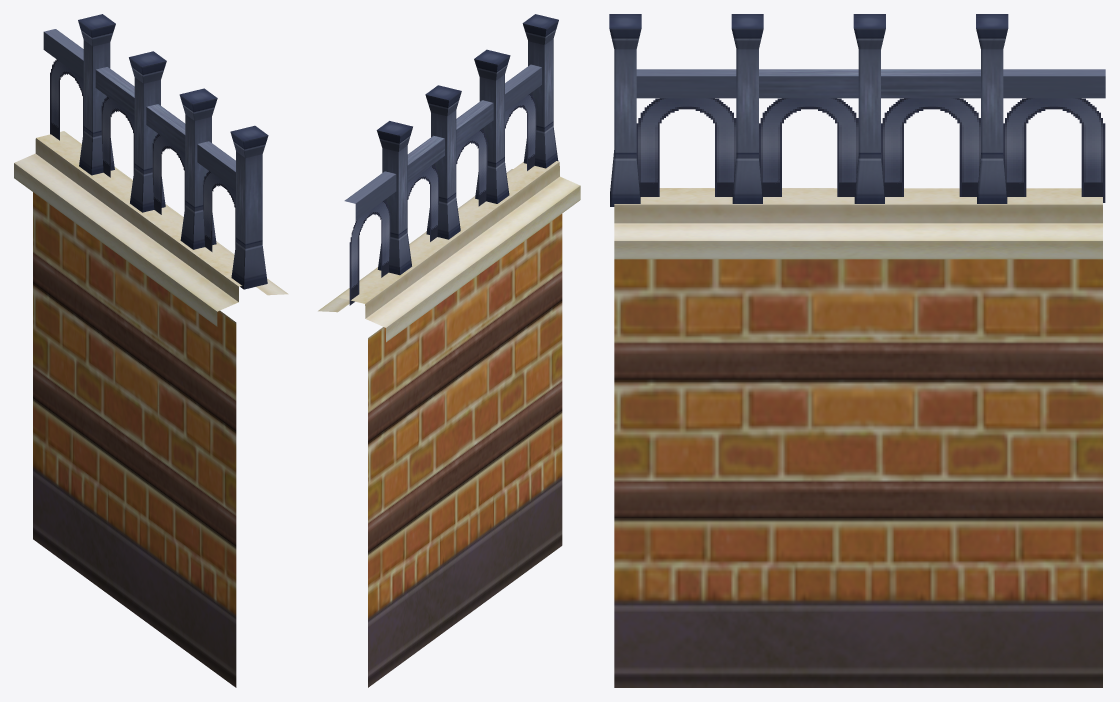
The model's file is a_SEwall01.glb.
3 views of the same model, side by side, from view 1: azimuth 30°, elevation 25°; view 2: azimuth 150°, elevation 25°; view 3: azimuth 270°, elevation 25° (orthographic). The views are drawn at different scales.
Visible parts, largest first — view 1: a_SEwall01; view 2: a_SEwall01; view 3: a_SEwall01.
Boxes of the visible parts, left/top/right/bottom form: a_SEwall01: left=14, top=14, right=288, bottom=687; a_SEwall01: left=318, top=14, right=580, bottom=687; a_SEwall01: left=609, top=14, right=1105, bottom=687.
Bounding box in the file's own units: 0.4068 × 2.97 × 2.03.
3 materials, 3 textured.
